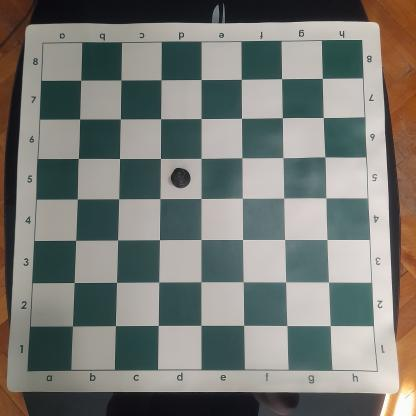black-pawn: (170, 167, 191, 190)
